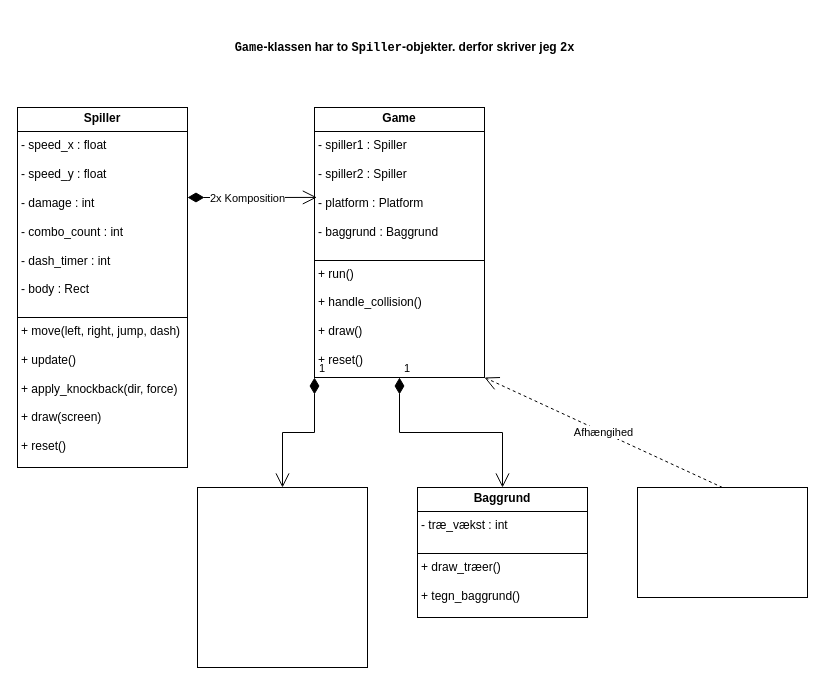
The diagram is 825 pixels wide and 685 high, and some of its shapes have lost their labels. Each missing label, with the box of its shape:
Config - SCREEN_WIDTH - SCREEN_HEIGHT - GRAVITY: (636, 486, 808, 598)
Platform - x :int - y :int - width : int - baggrund : Baggrund + draw(screen): (196, 486, 368, 668)
